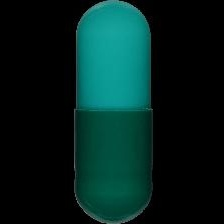53808-0746: (0, 0, 224, 224)
